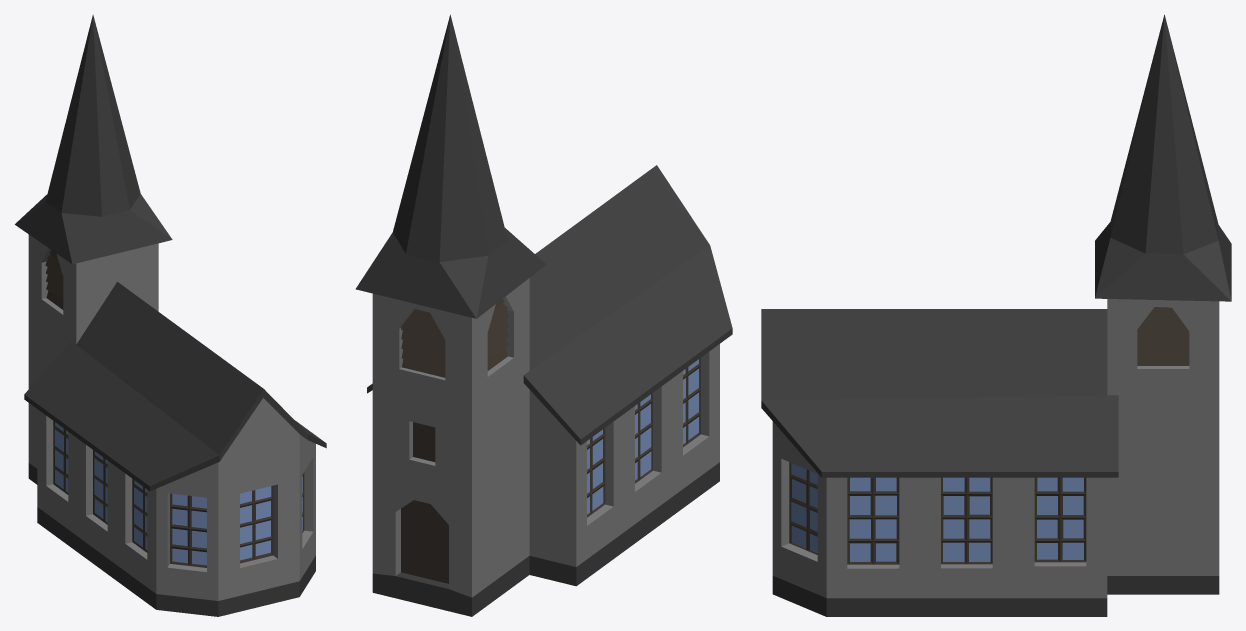
Rendered from Church.fbx.
The picture shows the model from 3 angles, left to right: view 1: azimuth 30°, elevation 25°; view 2: azimuth 150°, elevation 25°; view 3: azimuth 270°, elevation 25°; orthographic projection. The views are drawn at different scales.
Parts seen in each view (by area): view 1: Church; view 2: Church; view 3: Church.
Boxes of the visible parts, x1,y1,x2,y2 form: Church: (15,14,326,616); Church: (355,14,732,616); Church: (761,14,1231,616).
Bounding box in the file's own units: 1395 × 3560 × 2725.
Materials: 4 (1 with a texture image).
